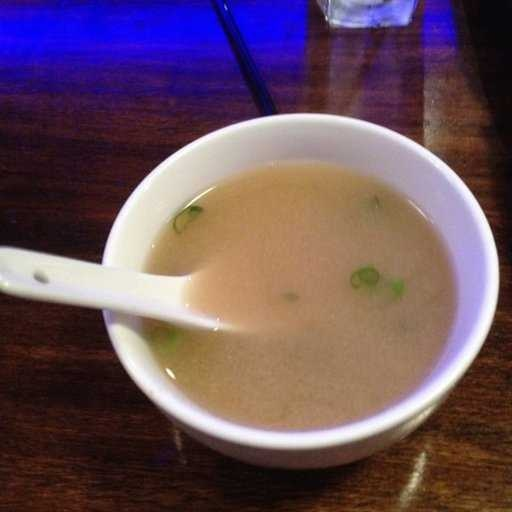soup: (103, 125, 491, 444)
